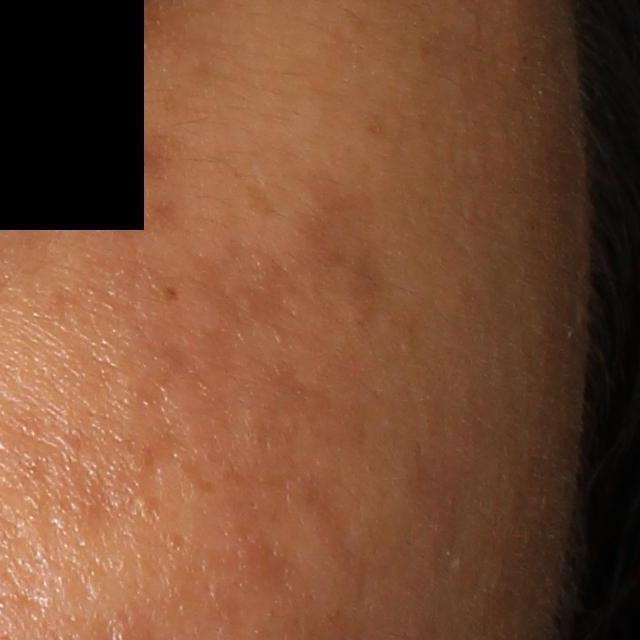melasma: (286, 168, 398, 330), (88, 127, 188, 251), (242, 177, 278, 221)
